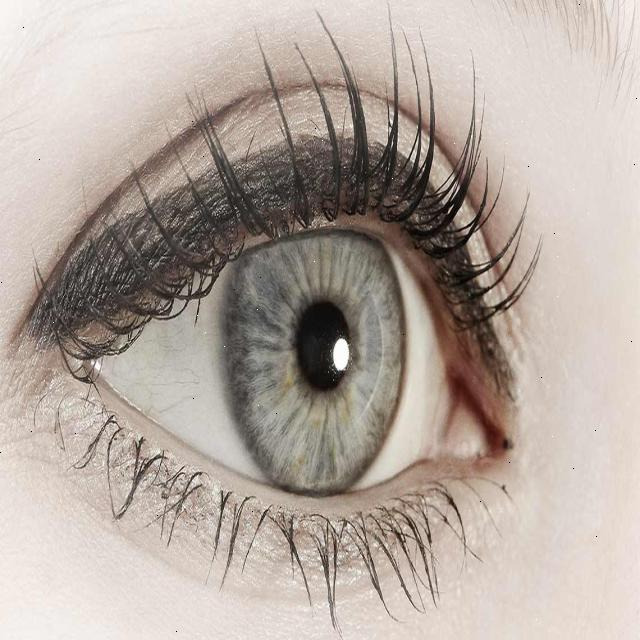Normal: (223, 174, 407, 507)
